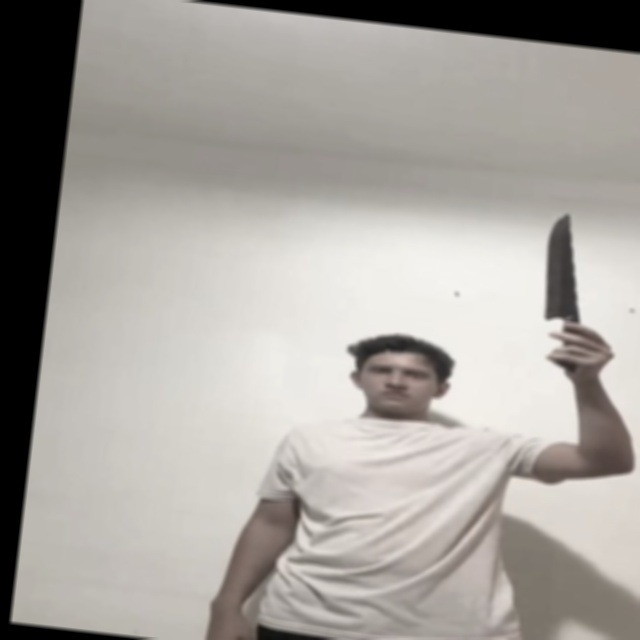Sharp-Object: (539, 211, 591, 323)
